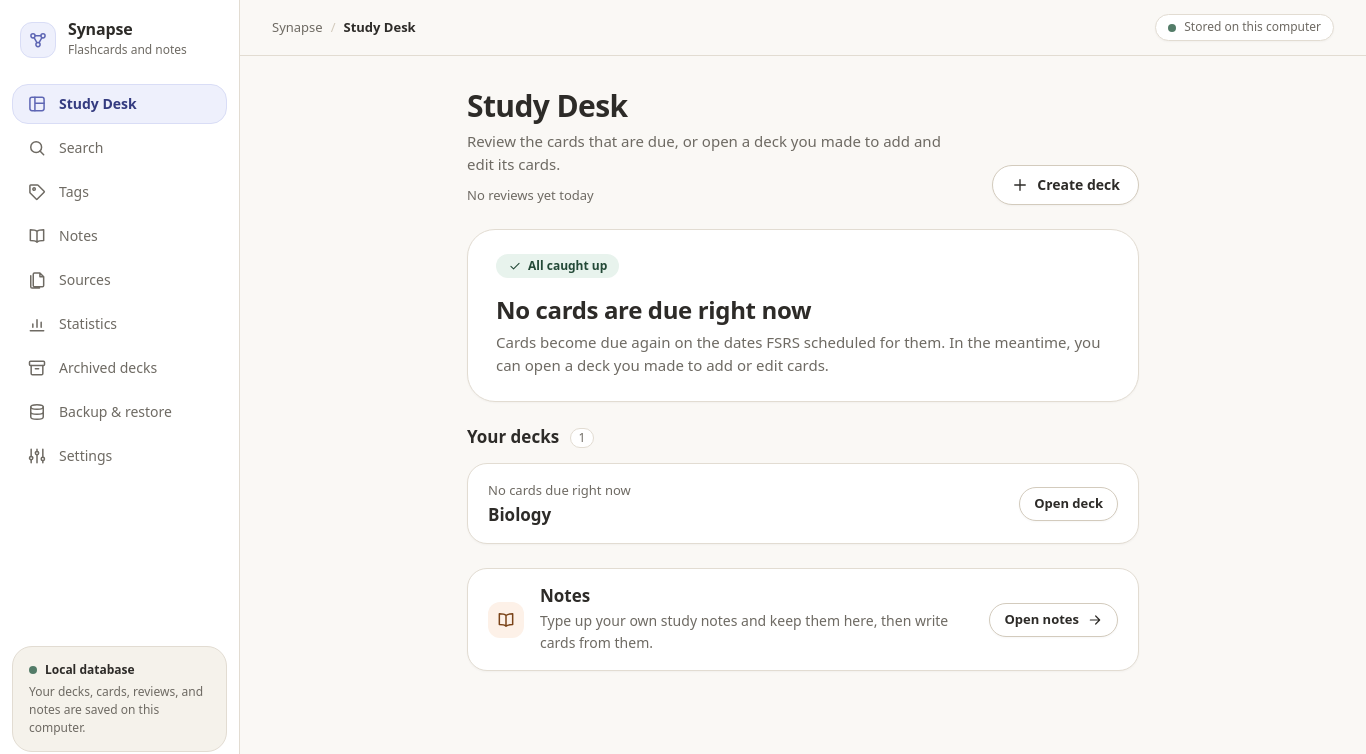
importing decks from Anki › offers no reversed cards when no note has one
Expected: the button "Create deck" is shown, [992,165,1139,205]
Click the button "Backup & restore". click: click(120, 412)
box: [12,392,227,432]
(page scrolled)
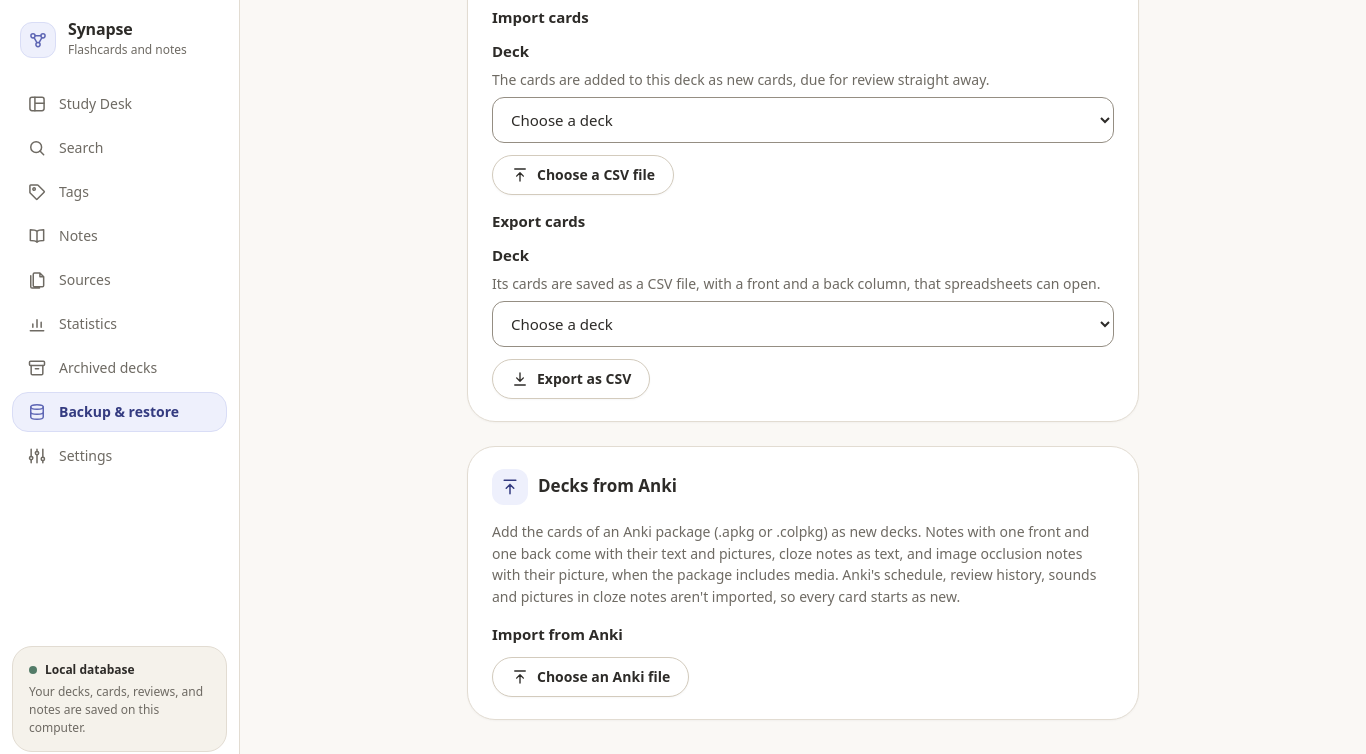
Now the heading "Decks from Anki" is shown, box [538,475,677,498]
Click the button "Choose an Anki file". click: click(591, 677)
box: [492,657,689,697]
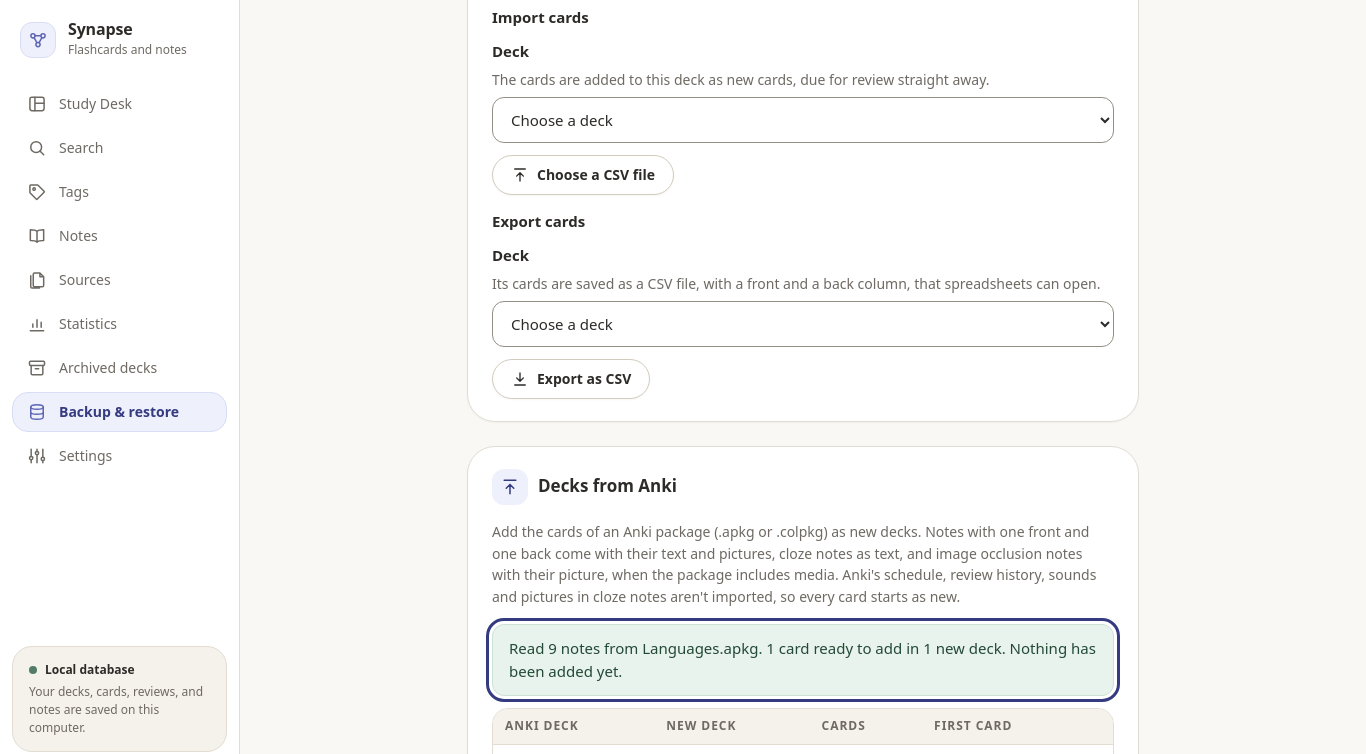
Now the text "1 card ready to add in 1 new deck." is shown, box [509,638,1096,681]
